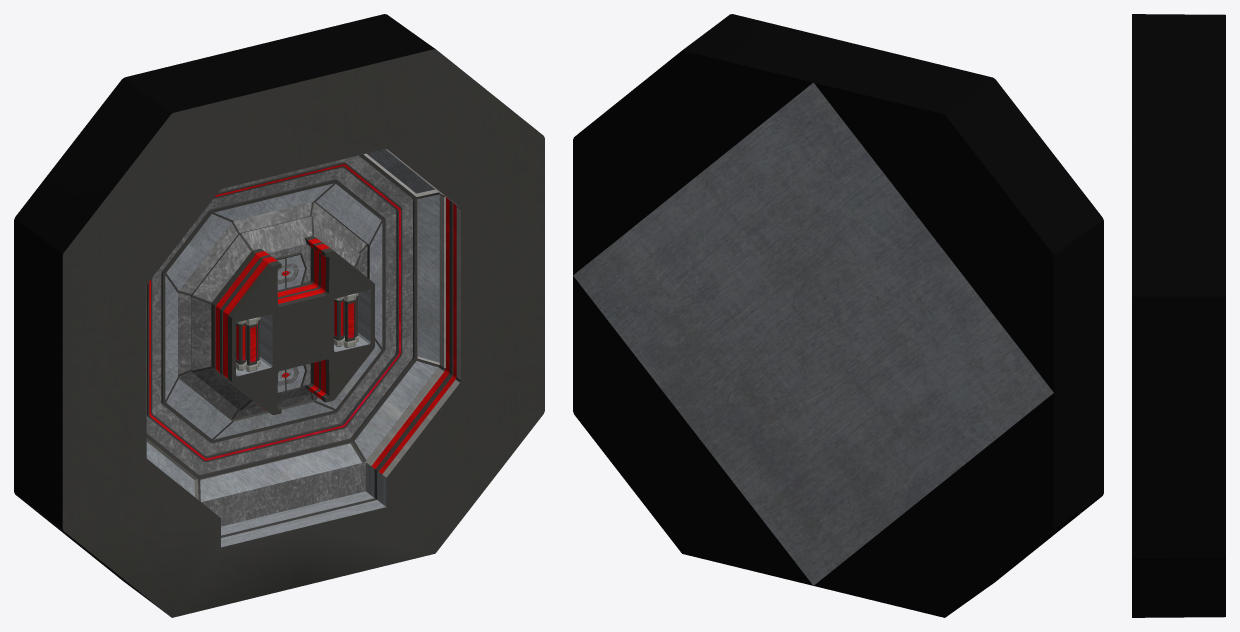
Rendered from BossRoom.fbx.
3 views of the same model, side by side, from view 1: azimuth 30°, elevation 25°; view 2: azimuth 150°, elevation 25°; view 3: azimuth 270°, elevation 25° (orthographic). The views are drawn at different scales.
Visible parts, largest first — view 1: Boss_Room; view 2: Boss_Room; view 3: Boss_Room.
Boxes of the visible parts, x1=… form: Boss_Room: x1=14, y1=14, x2=544, y2=617; Boss_Room: x1=573, y1=14, x2=1103, y2=617; Boss_Room: x1=1132, y1=14, x2=1225, y2=617.
Size of the model in its own units: 75.57 by 75.57 by 13.36.
1 material, 1 textured.
